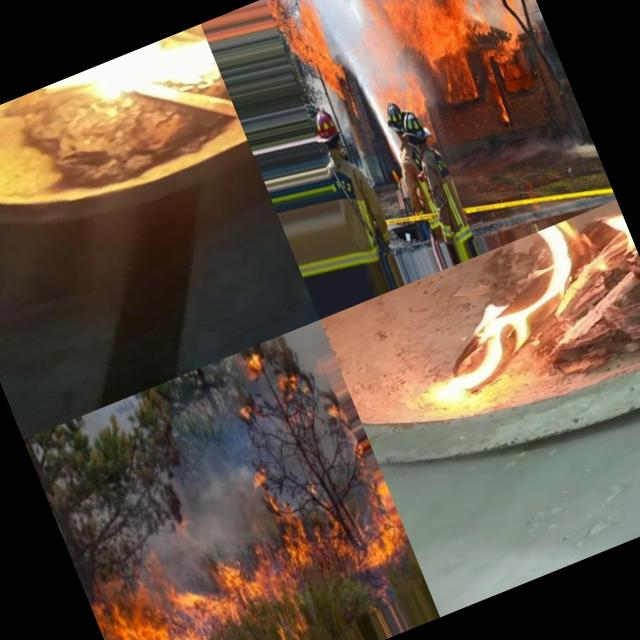fire: (78, 458, 426, 640), (399, 199, 640, 406), (45, 23, 217, 128), (346, 0, 503, 73), (271, 0, 351, 109), (463, 0, 542, 71), (426, 44, 484, 109), (478, 53, 516, 129), (390, 71, 427, 116)
